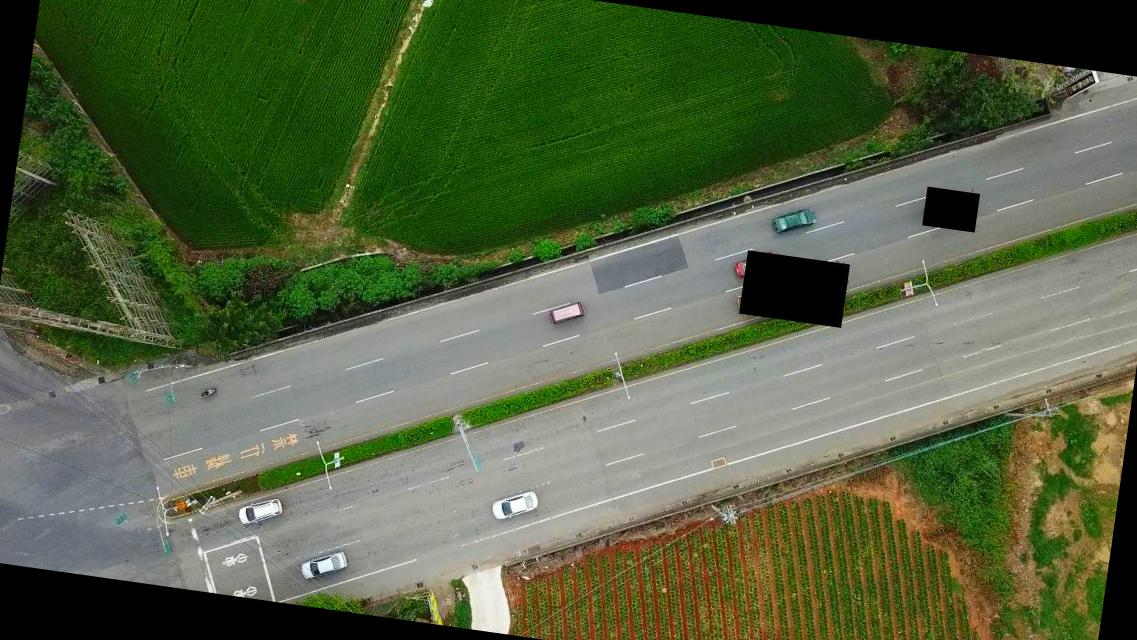vehicle: (299, 546, 350, 584), (490, 485, 539, 524), (772, 200, 820, 238), (236, 492, 282, 530), (548, 298, 586, 326)
